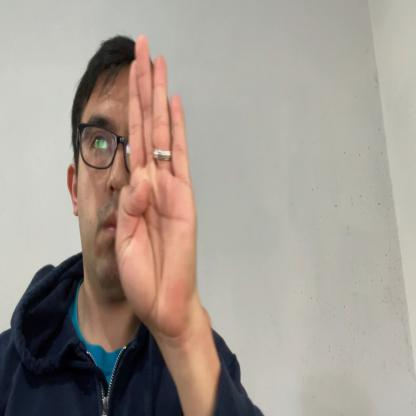B: (116, 34, 197, 334)
